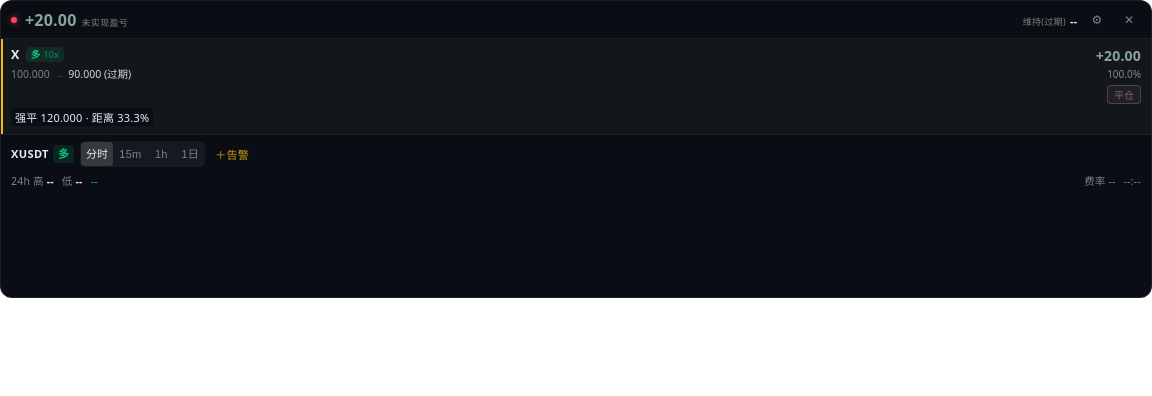
Test: 实盘平仓按钮 › 打开面板只做预览, 不发真实订单
Click the button "平仓".
click(1124, 94)  # box x1=1107 y1=85 x2=1141 y2=104
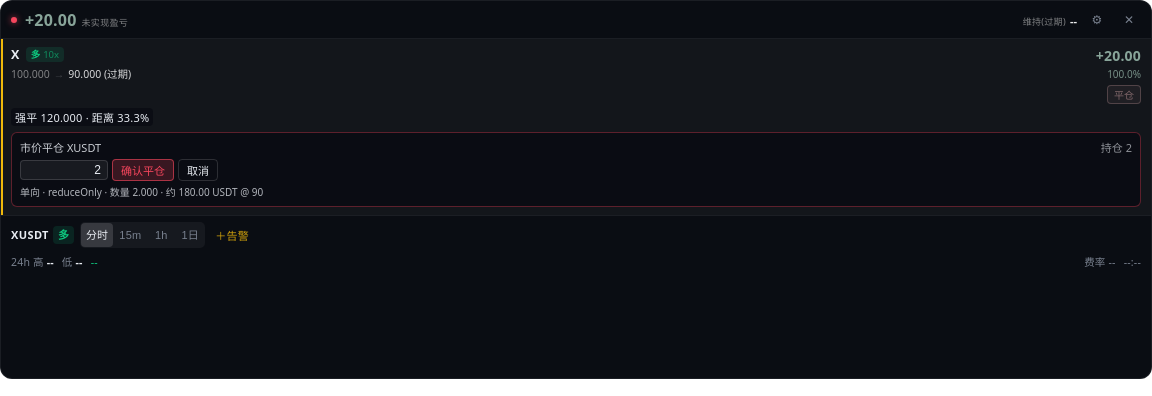
Expected: the text "单向 · reduceOnly · 数量 2.000 · 约 180.00 USDT @ 90" is shown, x1=20 y1=185 x2=263 y2=199
